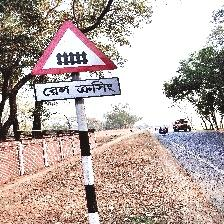Rail-crossing: (31, 20, 120, 104)
